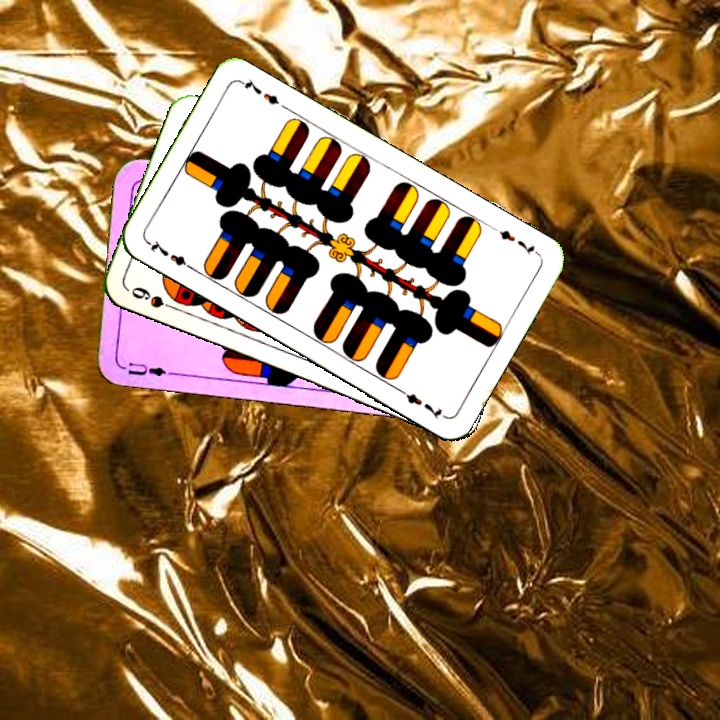E7: (144, 236, 197, 274), (495, 226, 542, 258)
EU: (116, 358, 175, 379)
S9: (127, 282, 183, 314)
